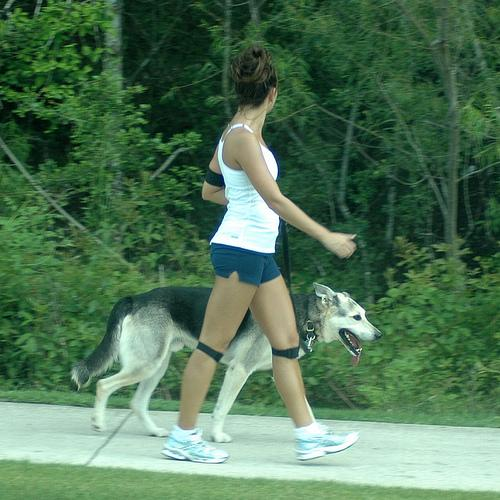person: (162, 51, 358, 463)
